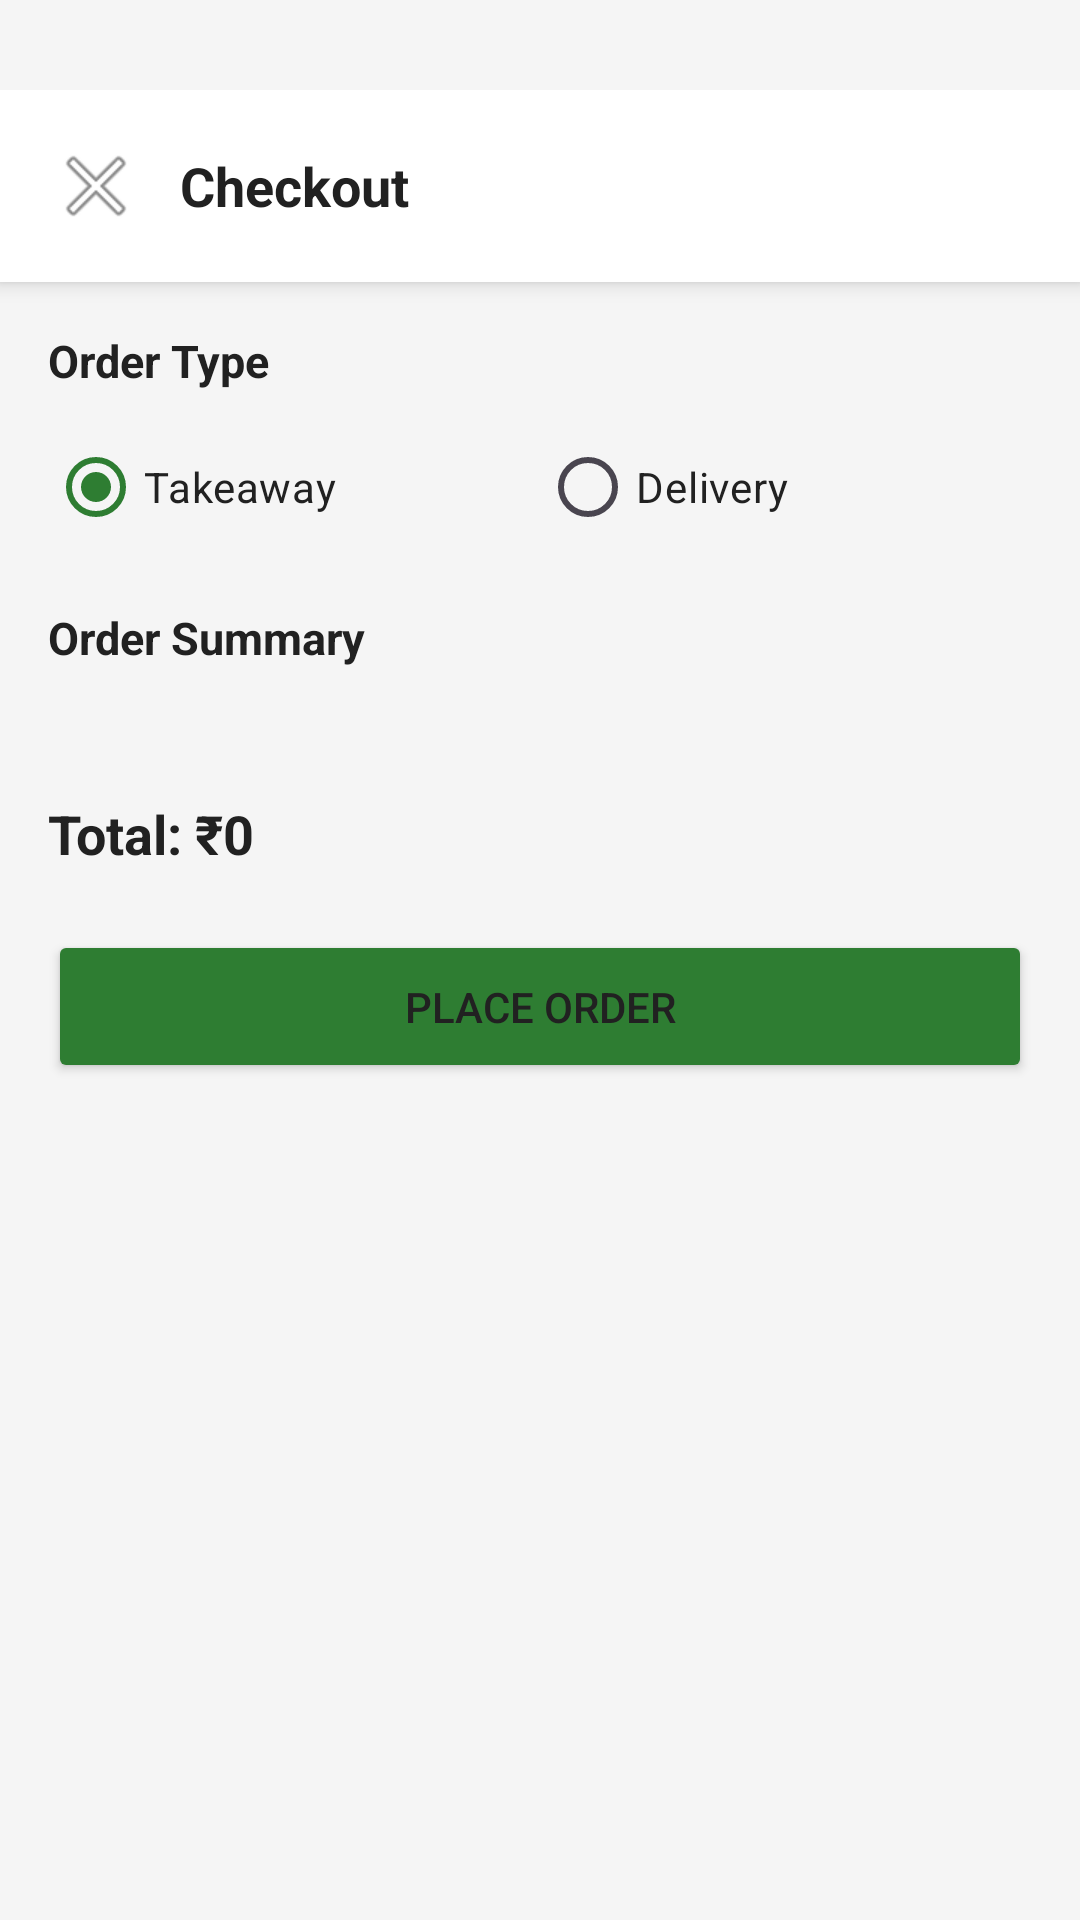

Named icons in this screenshot (1080w x 1920h) and their centers, (x,y):
close clear cancel: (96,186)
